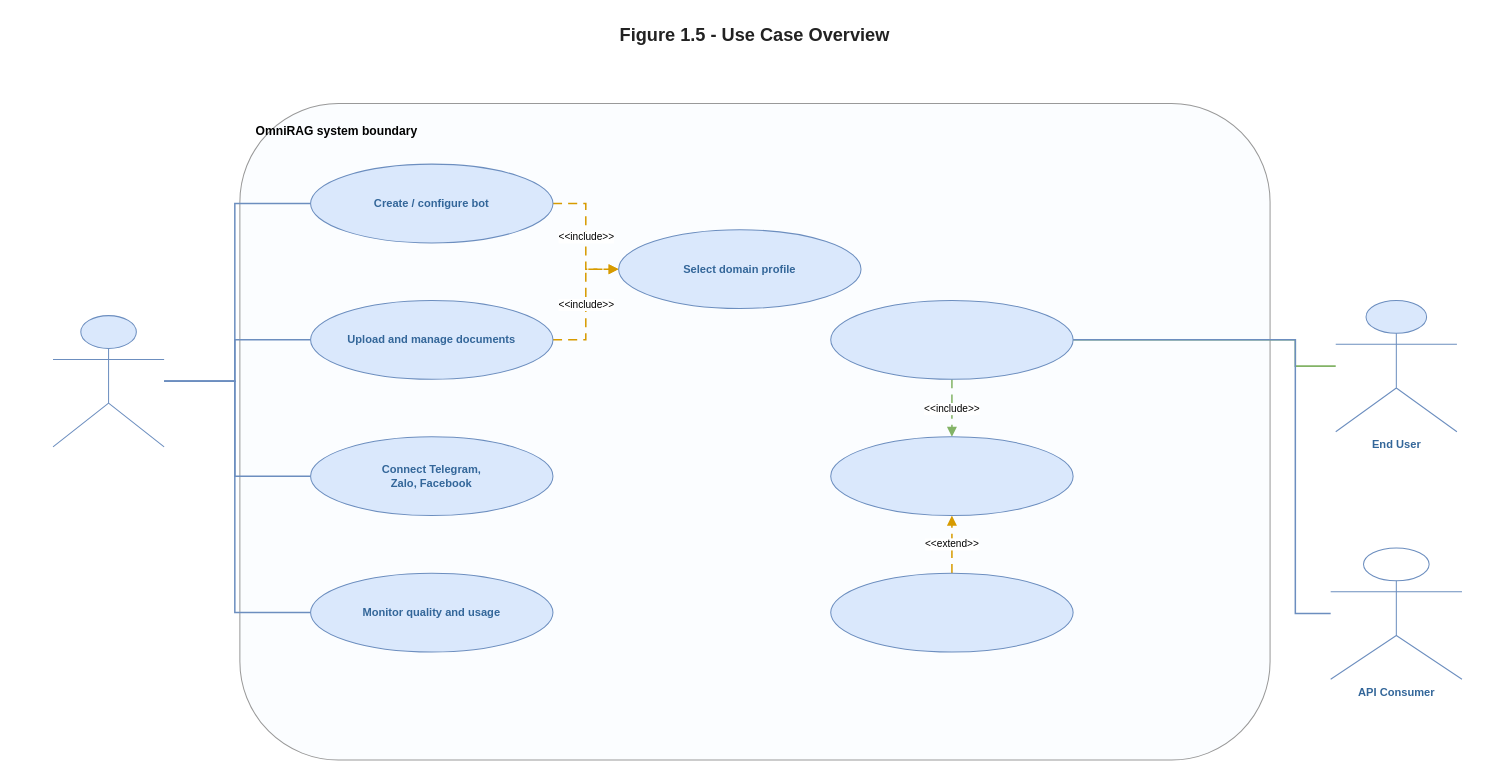
Some shapes in this 1509 by 778 pixel diagram are drawn without their labels. The centre of each missing label's shape, as x and y in pixels:
"Admin" goes at pixel 108 381.
"Ask questions" goes at pixel 951 339.
"Personalized memory" goes at pixel 951 612.
"Receive grounded answer" goes at pixel 951 476.
